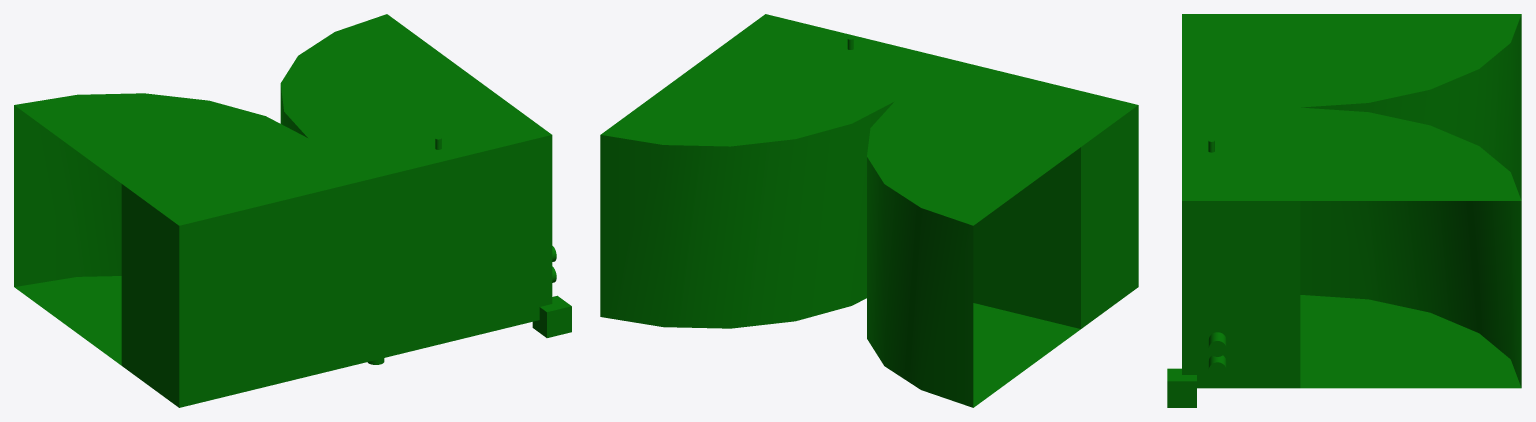
Rendered from Image-1711348063300-2281277241456_27-XJ52.fbx.
3 views of the same model, side by side, from view 1: azimuth 30°, elevation 25°; view 2: azimuth 150°, elevation 25°; view 3: azimuth 270°, elevation 25° (orthographic). The views are drawn at different scales.
Visible parts, largest first — view 1: BOX 1 of SUBEQUIPMENT /27-XJ52/PRIM, RTORUS 2 of SUBEQUIPMENT /27-XJ52/PRIM, RTORUS 1 of SUBEQUIPMENT /27-XJ52/PRIM, BOX 1 of SUBEQUIPMENT /24-CB50; view 2: RTORUS 1 of SUBEQUIPMENT /27-XJ52/PRIM, BOX 1 of SUBEQUIPMENT /27-XJ52/PRIM, RTORUS 2 of SUBEQUIPMENT /27-XJ52/PRIM; view 3: RTORUS 1 of SUBEQUIPMENT /27-XJ52/PRIM, BOX 1 of SUBEQUIPMENT /27-XJ52/PRIM, RTORUS 2 of SUBEQUIPMENT /27-XJ52/PRIM, BOX 1 of SUBEQUIPMENT /24-CB50, CYLINDER 2 of SUBEQUIPMENT /27-XJ52/PRIM, CYLINDER 1 of SUBEQUIPMENT /27-XJ52/PRIM.
Part boxes in pixels (x1,y1,x2,y2): BOX 1 of SUBEQUIPMENT /27-XJ52/PRIM: [121, 93, 552, 407]; RTORUS 2 of SUBEQUIPMENT /27-XJ52/PRIM: [14, 93, 307, 365]; RTORUS 1 of SUBEQUIPMENT /27-XJ52/PRIM: [280, 14, 494, 138]; BOX 1 of SUBEQUIPMENT /24-CB50: [532, 295, 571, 337]; RTORUS 1 of SUBEQUIPMENT /27-XJ52/PRIM: [600, 56, 894, 328]; BOX 1 of SUBEQUIPMENT /27-XJ52/PRIM: [708, 14, 1138, 328]; RTORUS 2 of SUBEQUIPMENT /27-XJ52/PRIM: [867, 101, 1080, 407]; RTORUS 1 of SUBEQUIPMENT /27-XJ52/PRIM: [1300, 107, 1521, 388]; BOX 1 of SUBEQUIPMENT /27-XJ52/PRIM: [1182, 14, 1300, 388]; RTORUS 2 of SUBEQUIPMENT /27-XJ52/PRIM: [1300, 14, 1521, 200]; BOX 1 of SUBEQUIPMENT /24-CB50: [1167, 368, 1196, 407]; CYLINDER 2 of SUBEQUIPMENT /27-XJ52/PRIM: [1208, 332, 1226, 356]; CYLINDER 1 of SUBEQUIPMENT /27-XJ52/PRIM: [1208, 355, 1226, 378].
Bounding box in the file's own units: 1.57 × 1.2 × 0.81.
